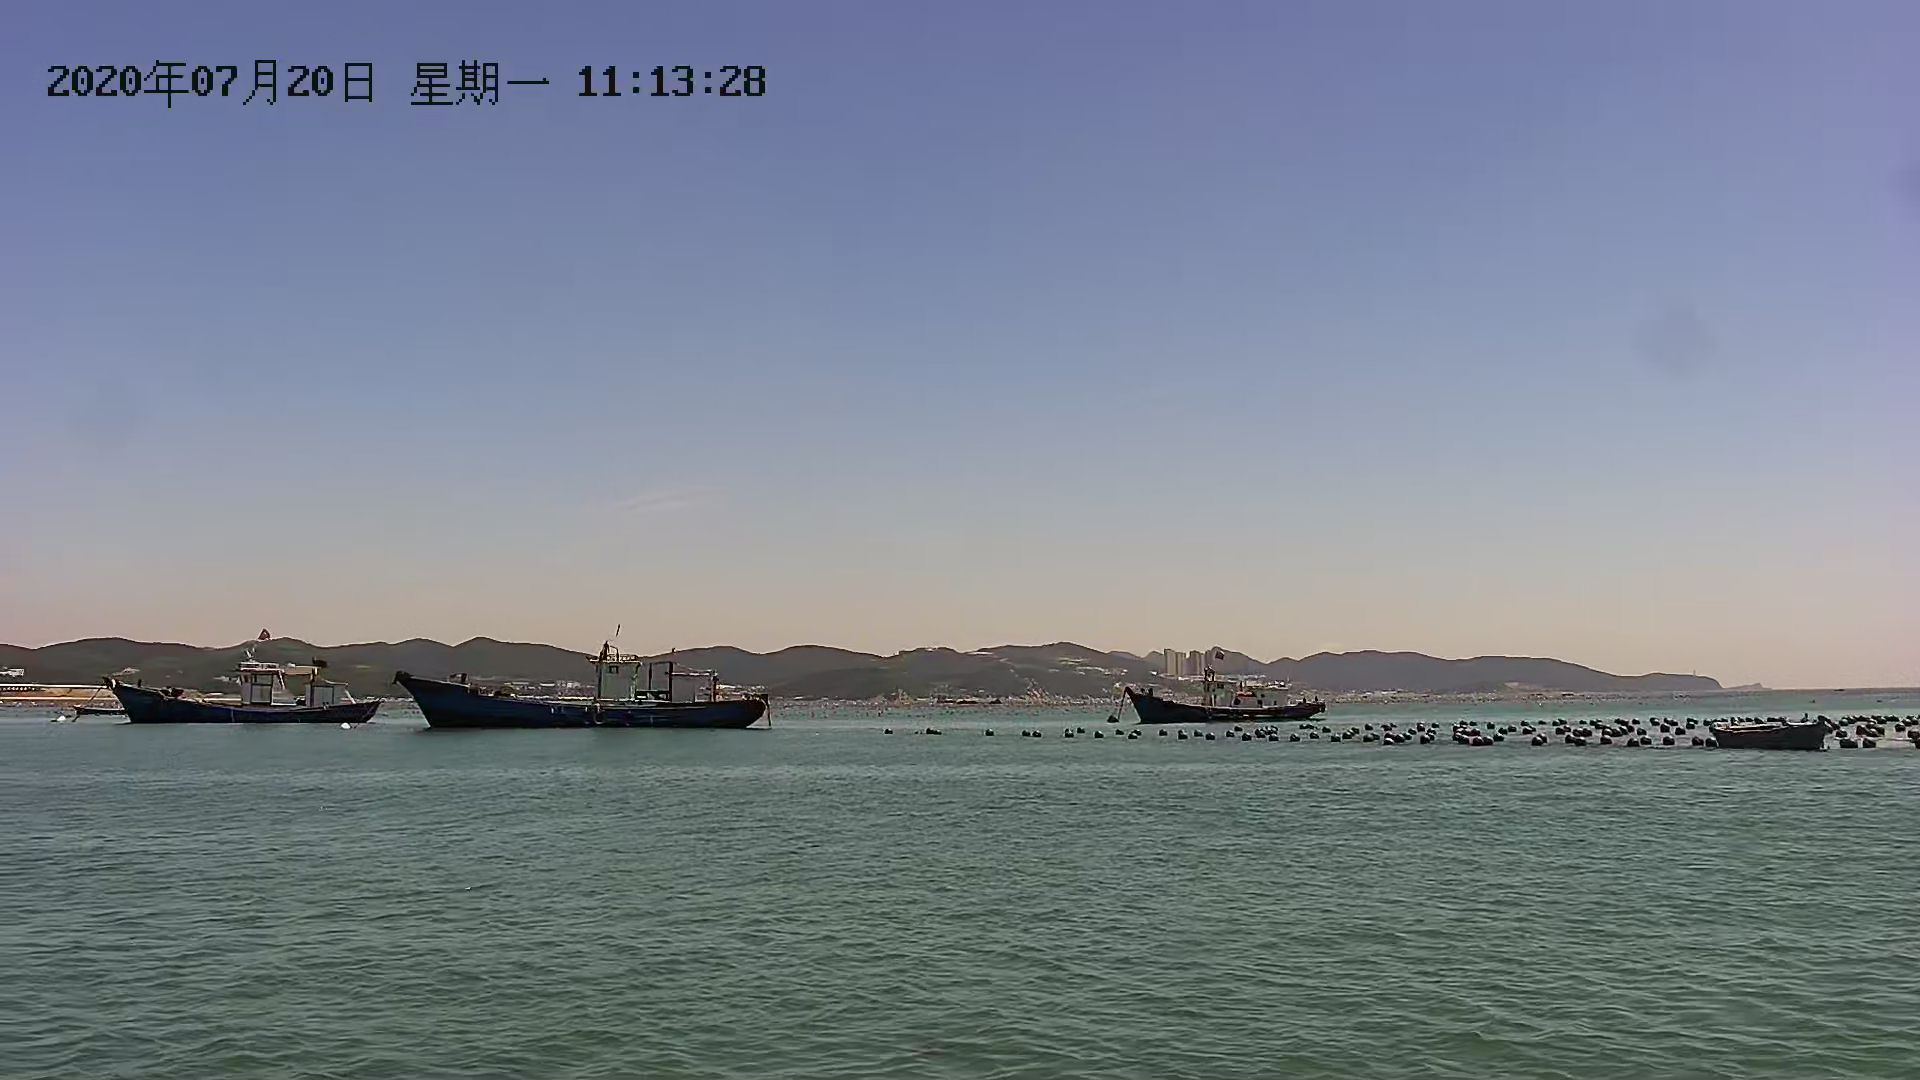boat: (397, 655, 767, 735), (80, 659, 377, 732), (1114, 673, 1332, 721), (1701, 723, 1837, 746)
